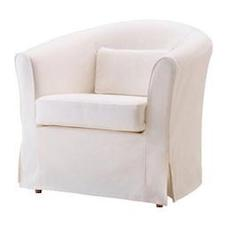chair: (23, 23, 210, 217), (23, 23, 210, 216), (10, 8, 197, 163), (49, 56, 65, 75), (183, 171, 198, 182), (167, 152, 178, 166), (20, 29, 25, 33), (68, 85, 71, 89)
